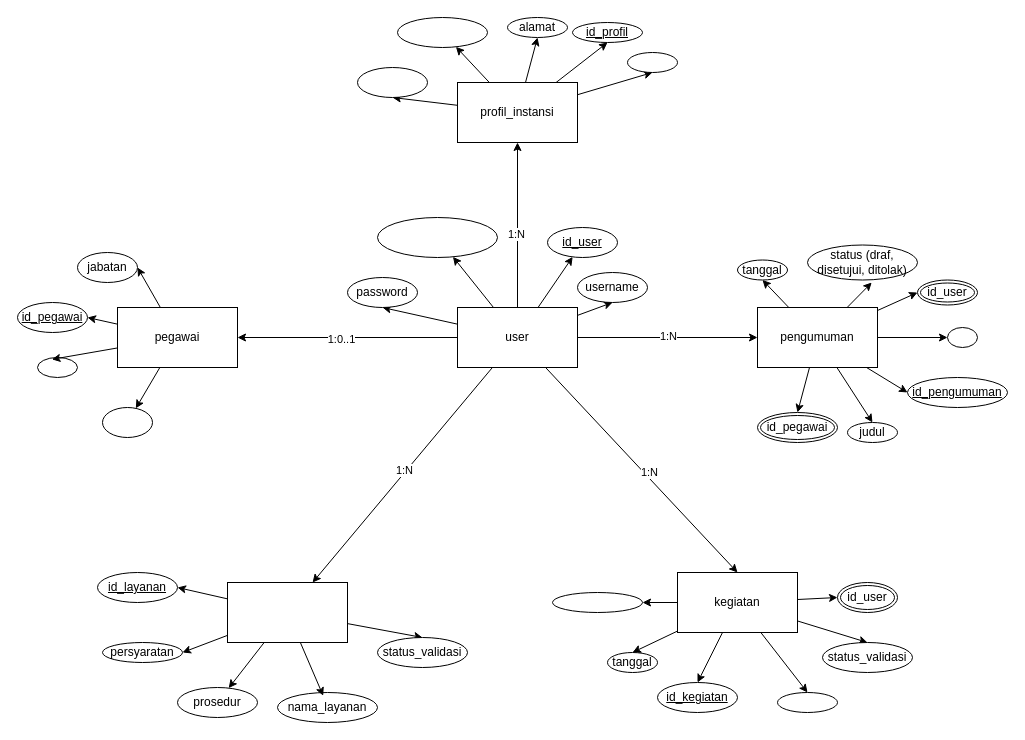
This 1025x740 diagram has some shape labels left out. The shapes that lost their labels are listed below. From the top down, each one's centre as x and y in pixels, then its label:
At point 442,32: "nama_instansi".
At point 392,82: "visi_misi".
At point 652,62: "kontak".
At point 437,237: "role (admin/pimpinan)".
At point 962,337: "isi".
At point 57,367: "nip".
At point 127,422: "nama".
At point 287,612: "layanan".
At point 597,602: "nama_kegiatan".
At point 807,702: "deskripsi".
